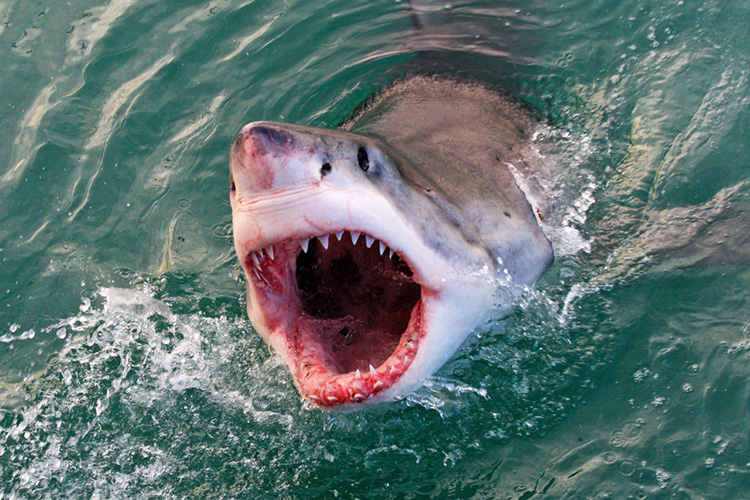shark: (209, 47, 605, 408)
